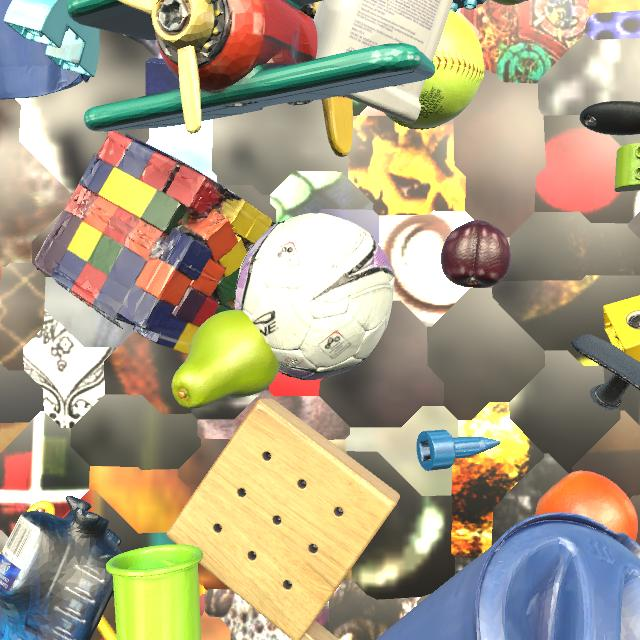ycb_016_pear: (172, 310, 279, 409)
ycb_017_orange: (535, 471, 638, 542)
ycb_018_plum: (441, 220, 511, 288)
